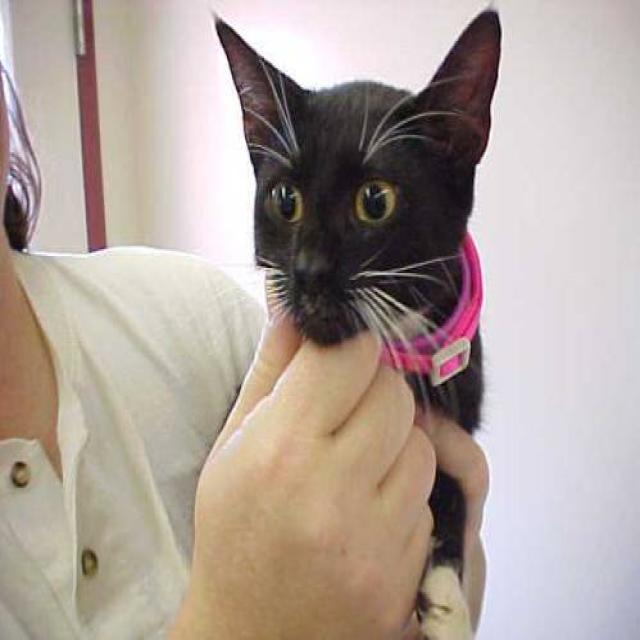cat: (209, 5, 503, 638)
